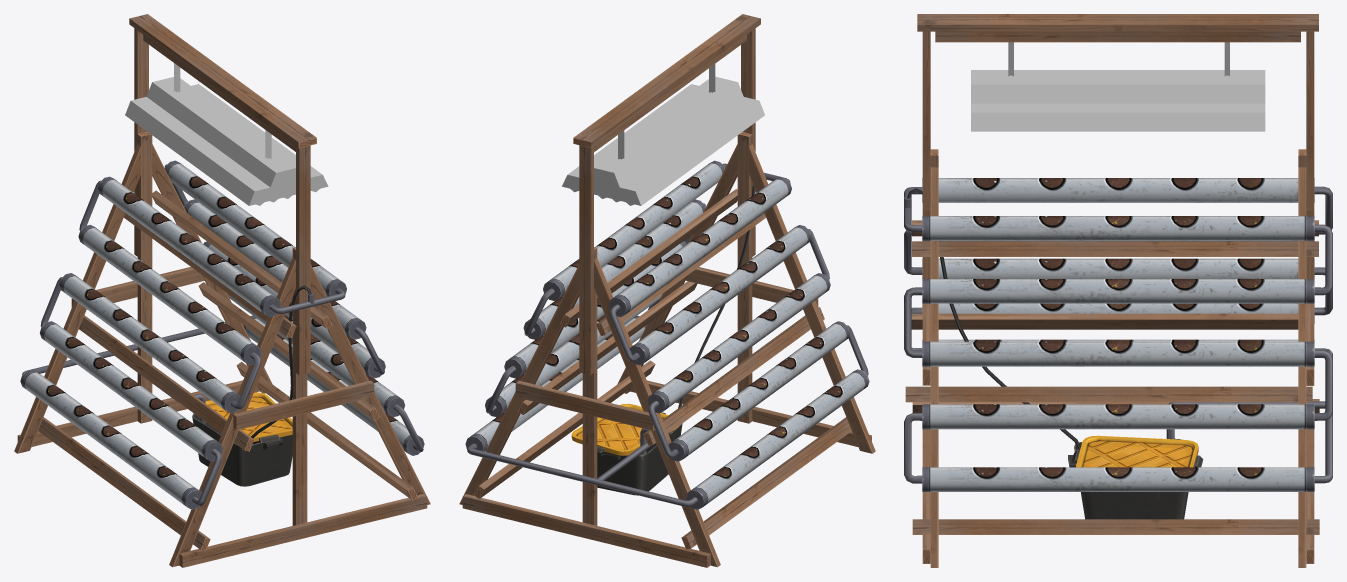
Rendered from hydroponics_V03.fbx.
The picture shows the model from 3 angles, left to right: view 1: azimuth 30°, elevation 25°; view 2: azimuth 150°, elevation 25°; view 3: azimuth 270°, elevation 25°; orthographic projection. The views are drawn at different scales.
Parts seen in each view (by area): view 1: hydroponics_V03, hydroponics_V03_lamp; view 2: hydroponics_V03, hydroponics_V03_lamp; view 3: hydroponics_V03, hydroponics_V03_lamp.
Part boxes in pixels (x1,y1,x2,y2): hydroponics_V03: (14, 132, 430, 567); hydroponics_V03_lamp: (125, 14, 328, 374); hydroponics_V03: (459, 132, 875, 567); hydroponics_V03_lamp: (562, 14, 764, 375); hydroponics_V03: (904, 149, 1332, 567); hydroponics_V03_lamp: (917, 14, 1318, 278).
Bounding box in the file's own units: 1.81 × 2.67 × 2.19.
